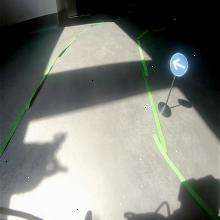left: (169, 51, 189, 76)
